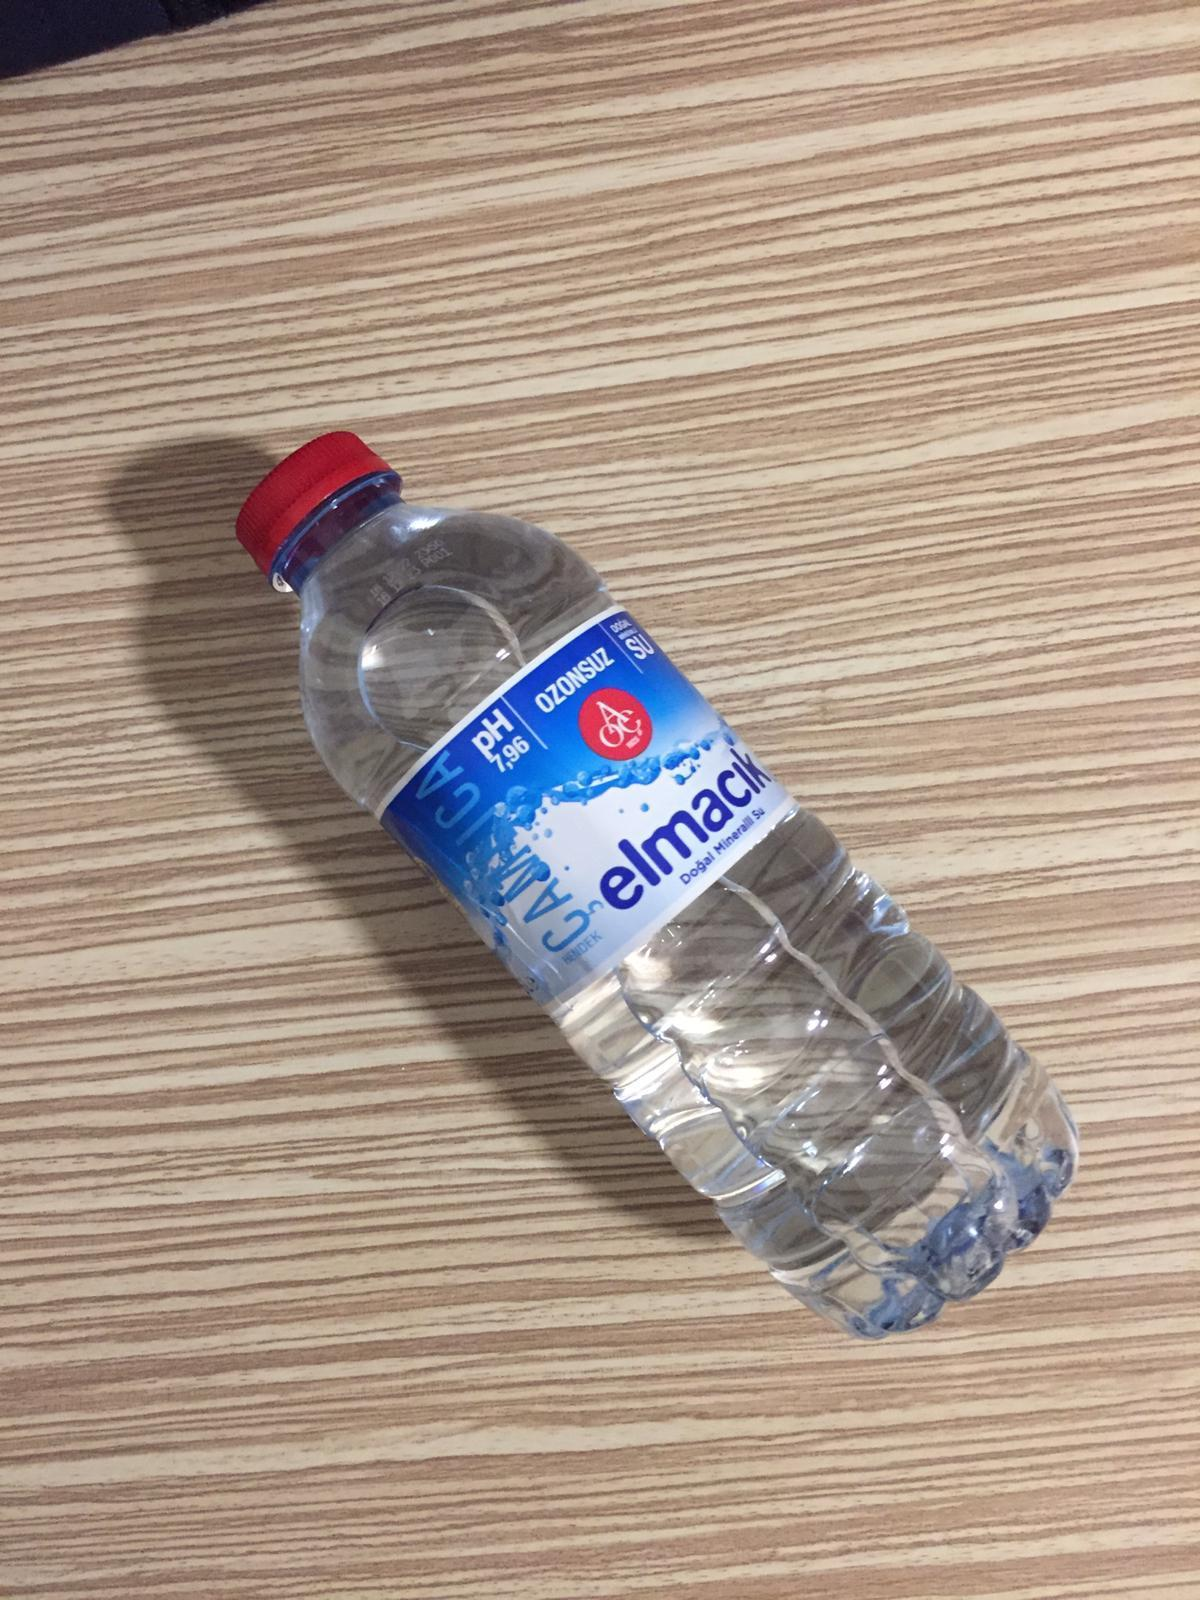bottle: (228, 425, 1071, 1342)
